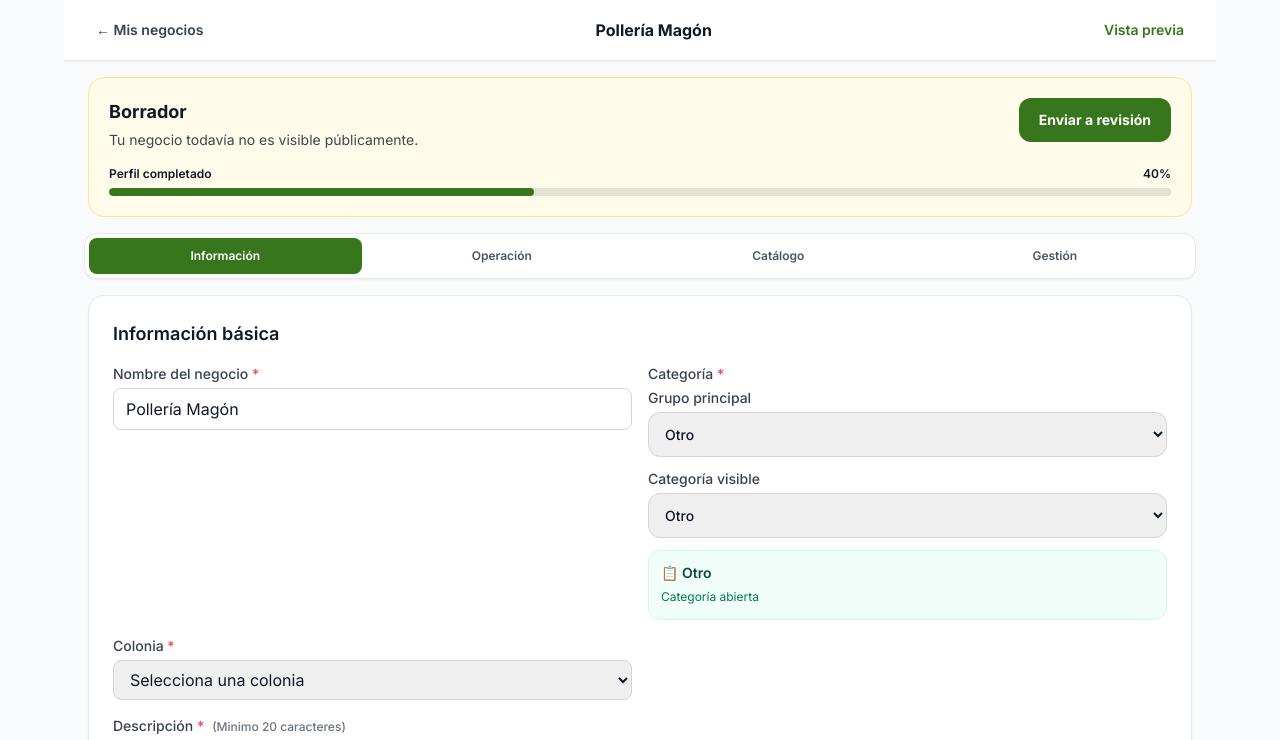
Test: R5D mobile editor workspace › shows server-reported missing fields after an incomplete submission attempt
What coordinates should you click on to do the following:
click the button "Enviar a revisión"
I would click on:
 (1095, 120)
Its box is top-left (1019, 98), bottom-right (1171, 142).
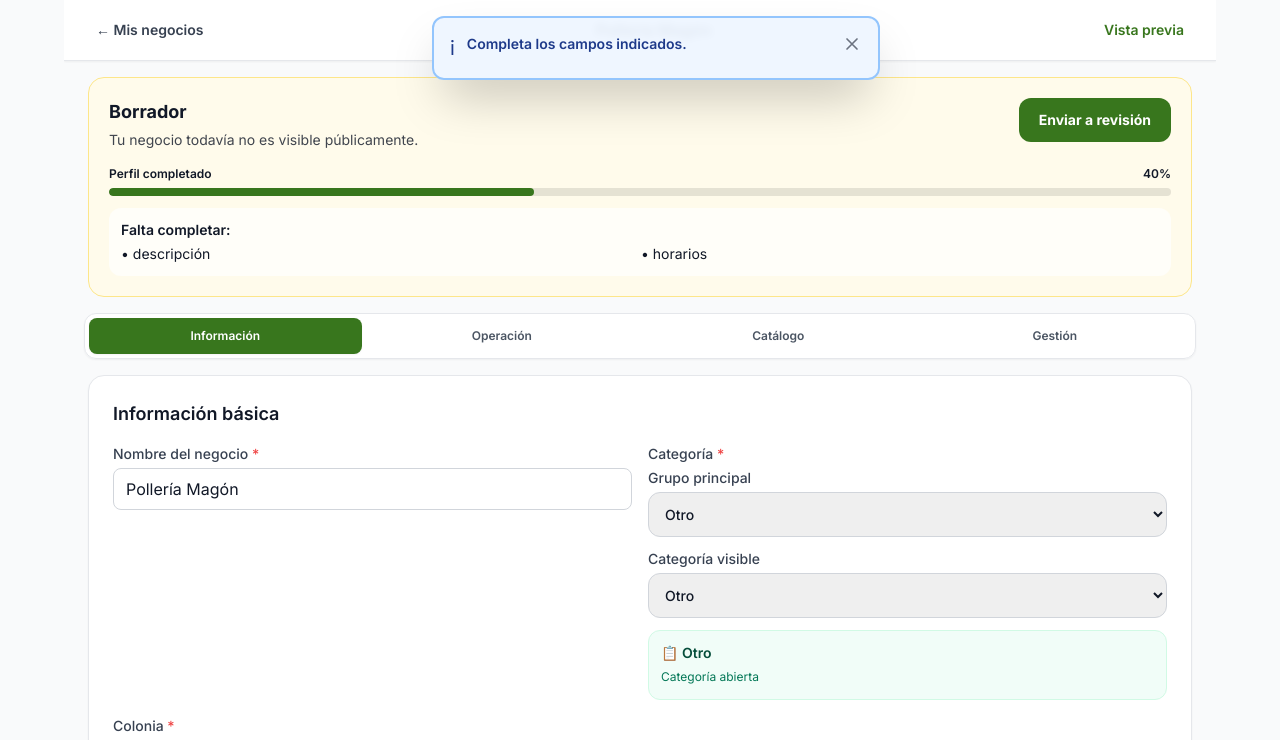
Expected: the list item "• descripción" is shown, top-left (121, 245), bottom-right (210, 262)
Expected: the list item "• horarios" is shown, top-left (641, 245), bottom-right (707, 262)
